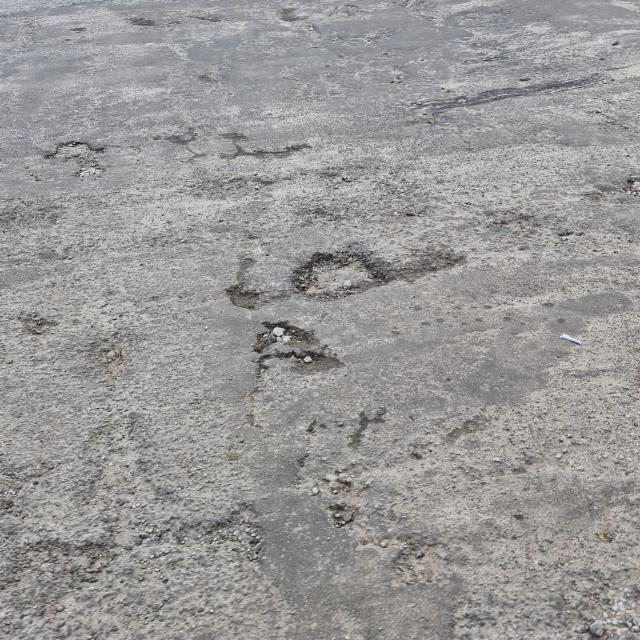pothole: (5, 486, 272, 594), (320, 487, 460, 591), (417, 70, 612, 118), (238, 312, 346, 390), (286, 233, 392, 304), (400, 246, 481, 300), (84, 342, 162, 393), (587, 154, 640, 218), (218, 250, 273, 310), (210, 136, 318, 166), (484, 206, 553, 252), (45, 137, 107, 173), (264, 6, 329, 38), (187, 10, 235, 32), (130, 14, 159, 37)
